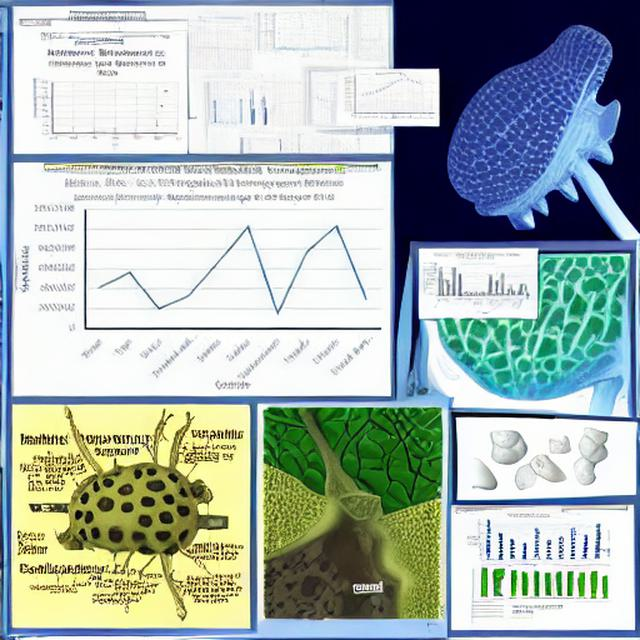Graph: (19, 175, 386, 394), (29, 57, 187, 151), (420, 251, 531, 316), (464, 514, 580, 567), (344, 70, 435, 121), (262, 5, 343, 59)
